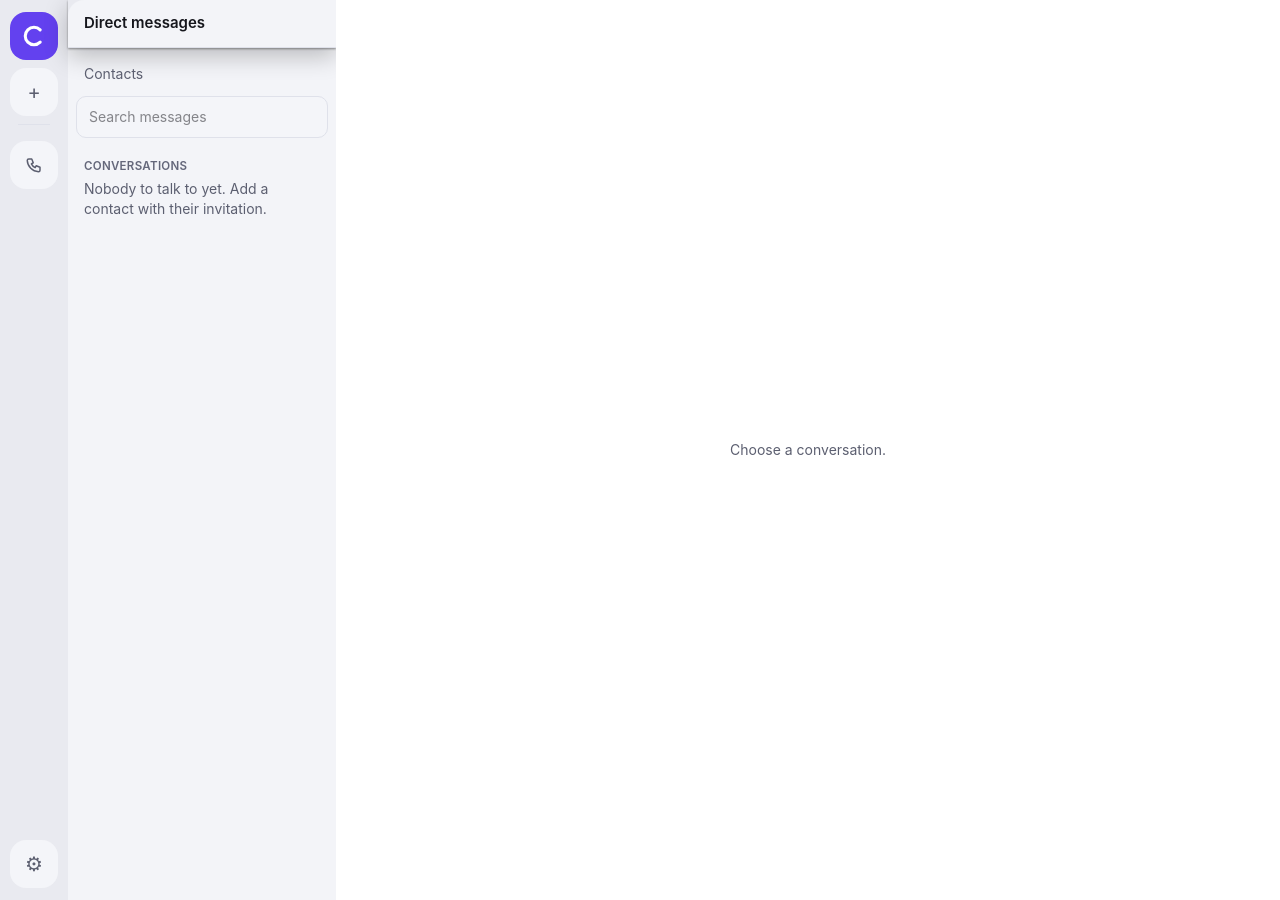
Test: a space refused is said so in the interface's words
Click the button named "Add a space" at (34,92), box 10,68 -> 58,116
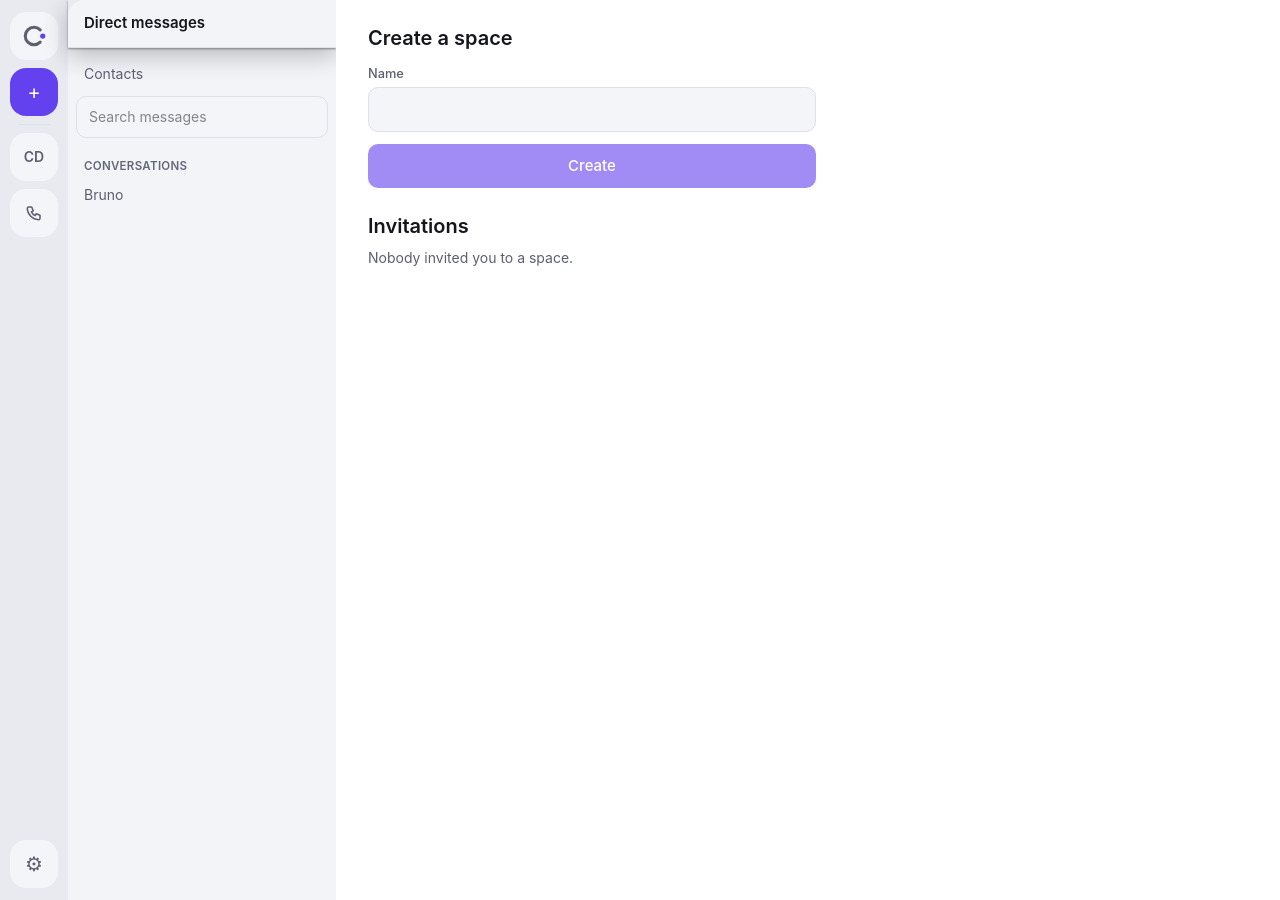
Type "x" into the field labelled "Name" at (592,109), box 368,87 -> 816,132
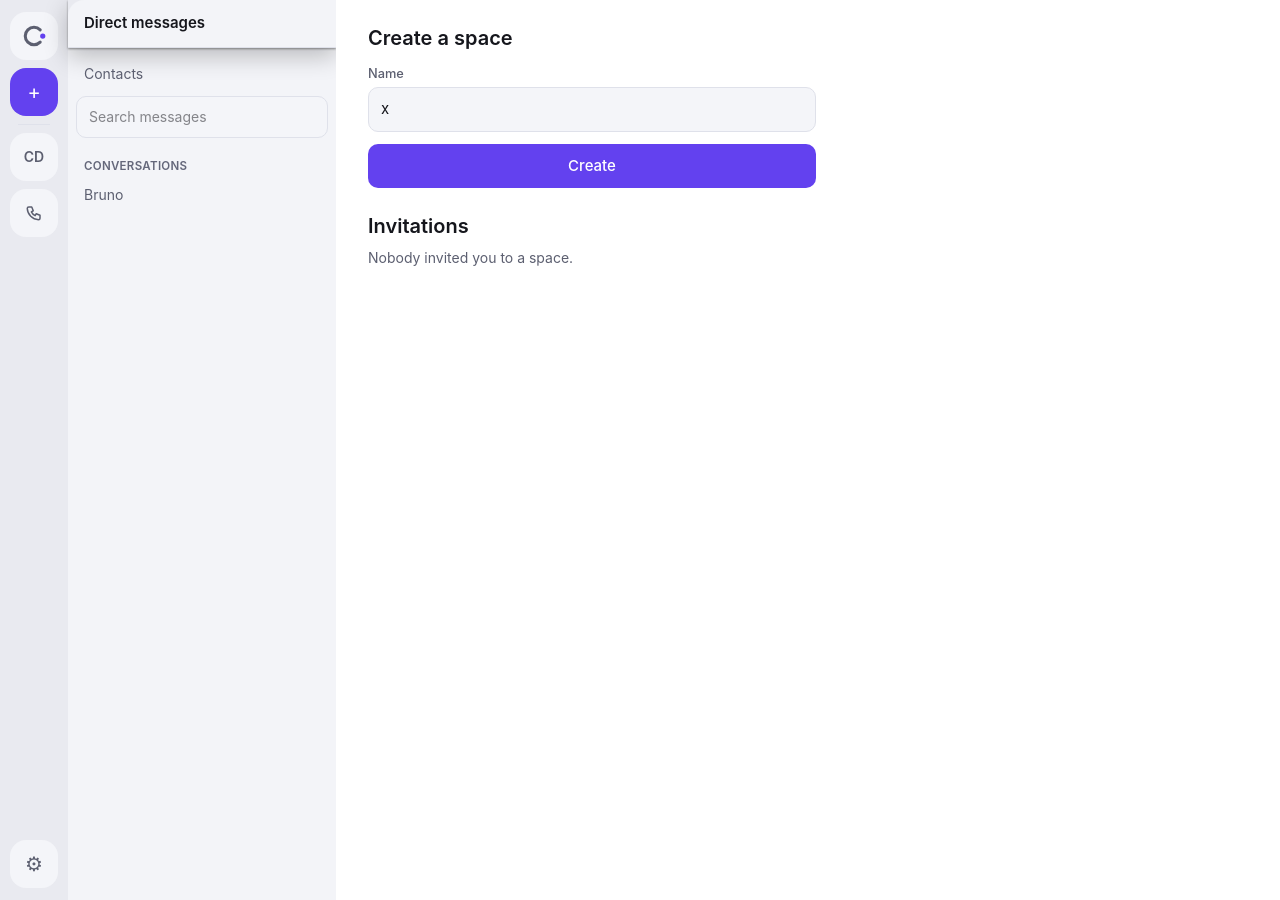
Click the button "Create" at (592,166), box 368,144 -> 816,188
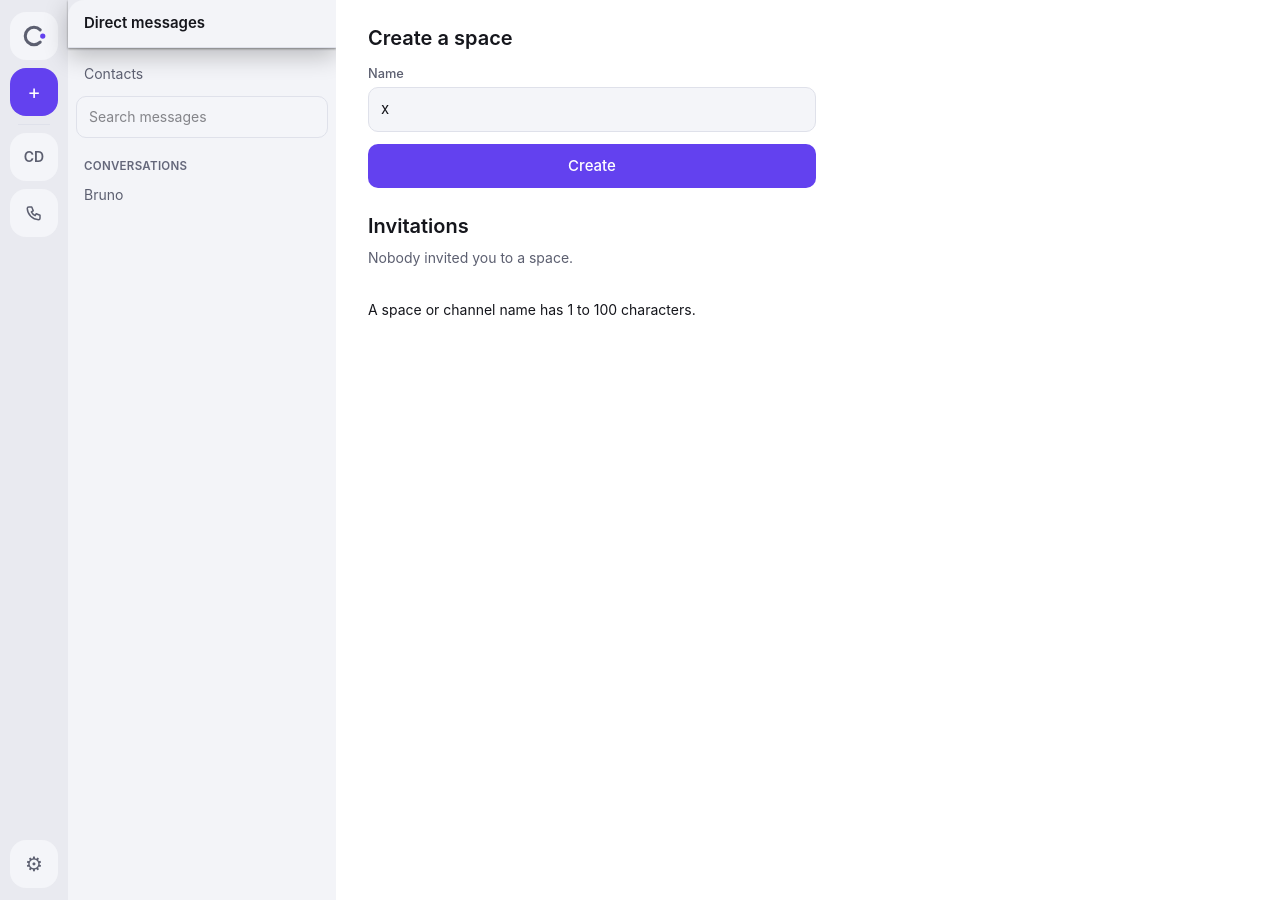
expect the text "A space or channel name has 1 to 100 characters." is shown: met, box 368,301 -> 696,318
